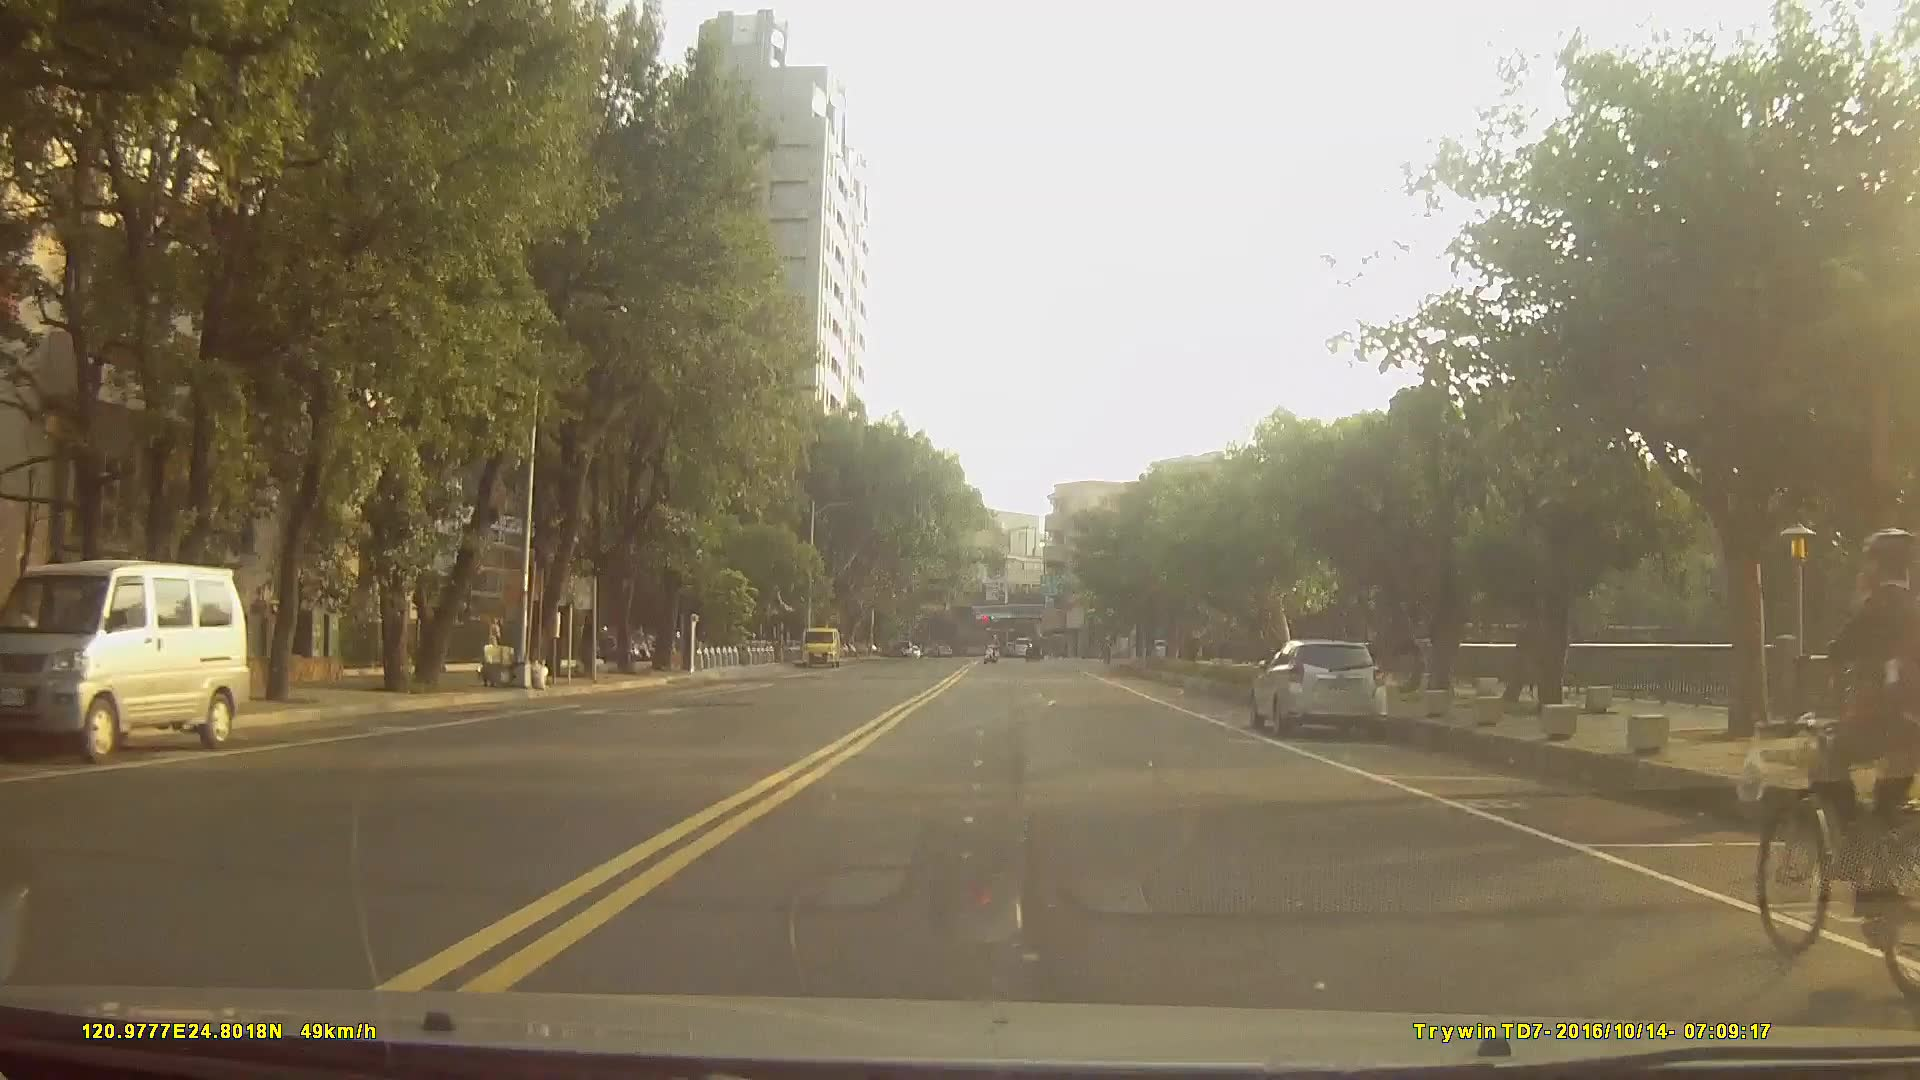rider: (1755, 525, 1920, 1005)
vehicle: (0, 554, 251, 759), (1247, 635, 1391, 739), (1009, 634, 1036, 659)
